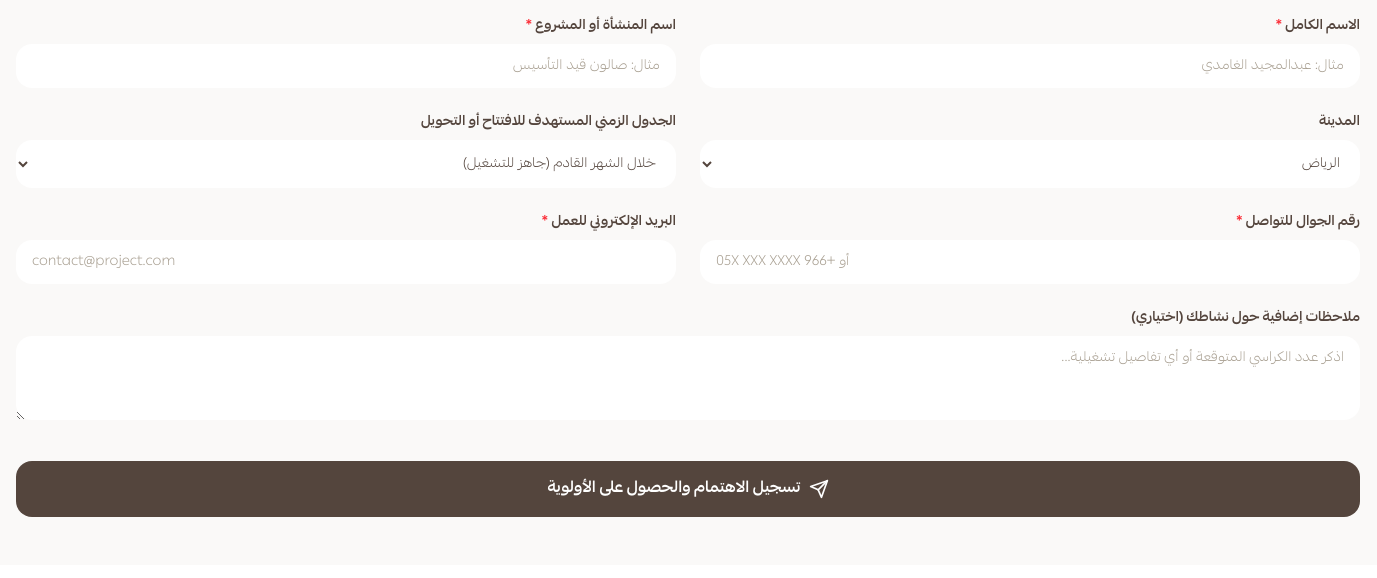
Scenario: RASHX Public Pages & Conversion Forms Suite › Register Interest Form (/register-interest) › validates required fields
The width and height of the screenshot is (1377, 578).
Click the button "تسجيل الاهتمام والحصول على الأولوية". click: [688, 489]
box: [16,461,1360,517]
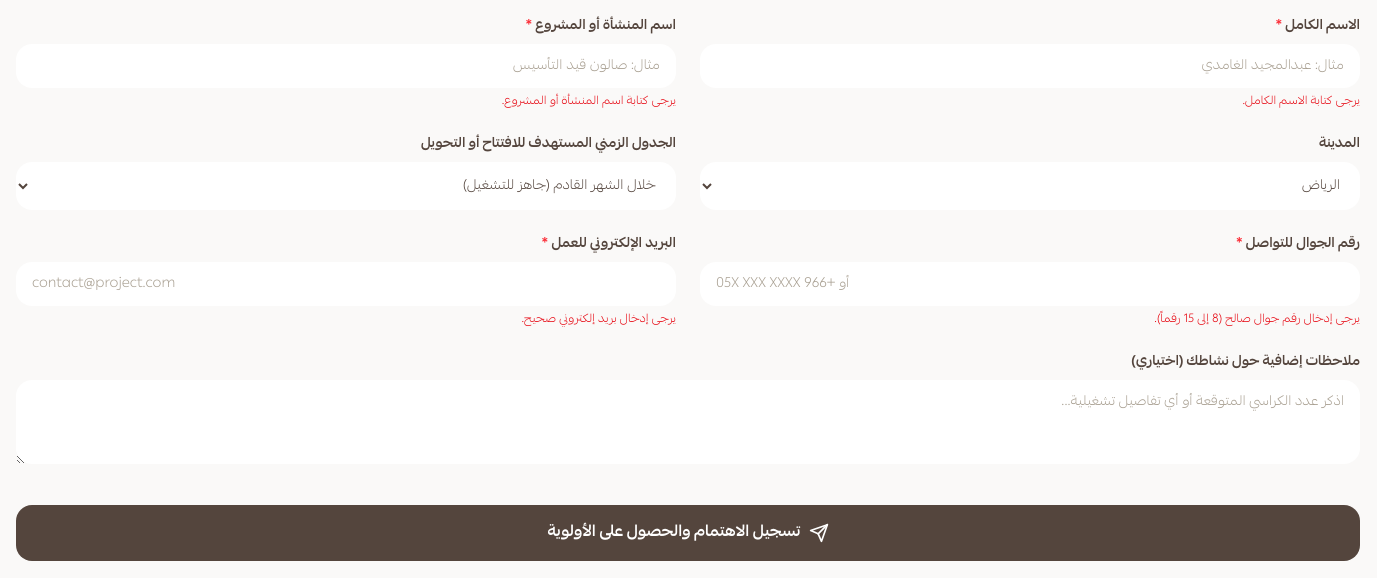
Result: the text "يرجى كتابة الاسم الكامل." is shown at [1242,92,1360,111]
Result: the text "يرجى كتابة اسم المنشأة أو المشروع." is shown at [502,92,676,111]
